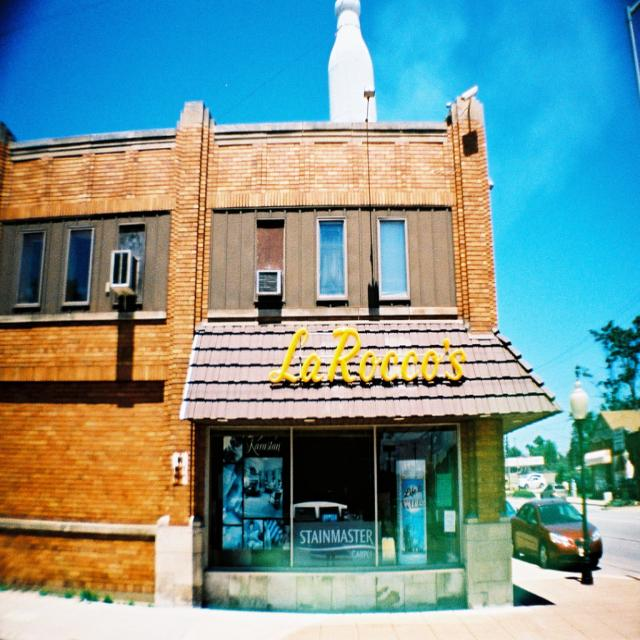car: (517, 474, 537, 486)
